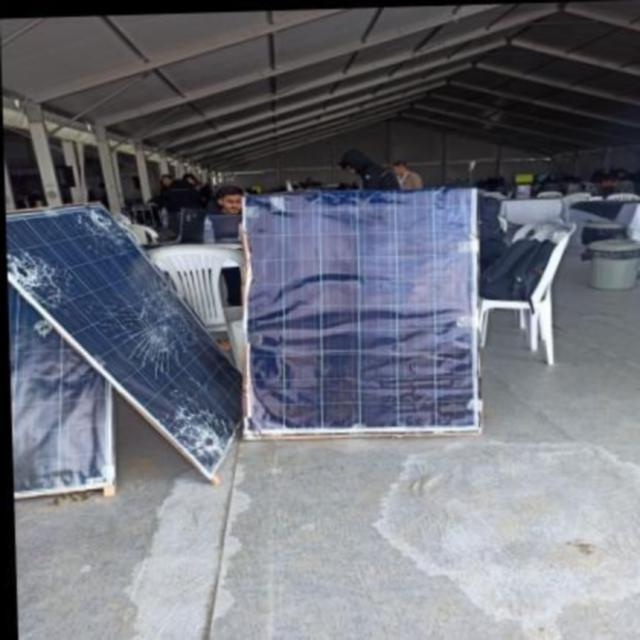cracked: (8, 206, 238, 464)
